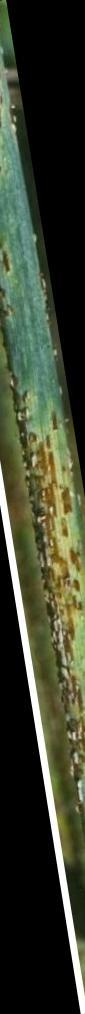Wheat: (20, 463, 85, 599)
